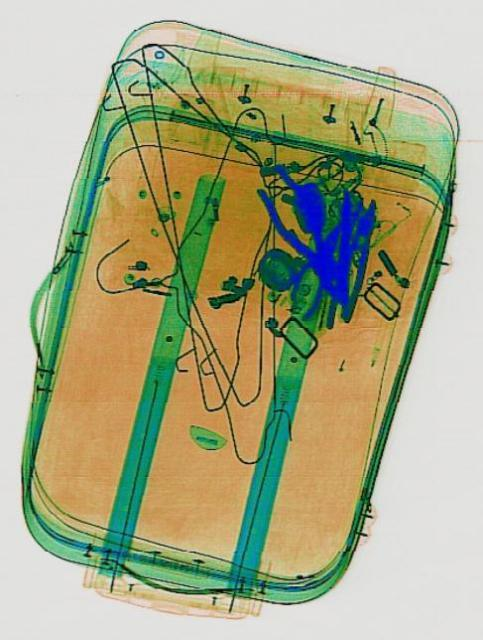Pliers: (248, 158, 361, 314), (320, 194, 382, 334), (279, 210, 354, 324)
